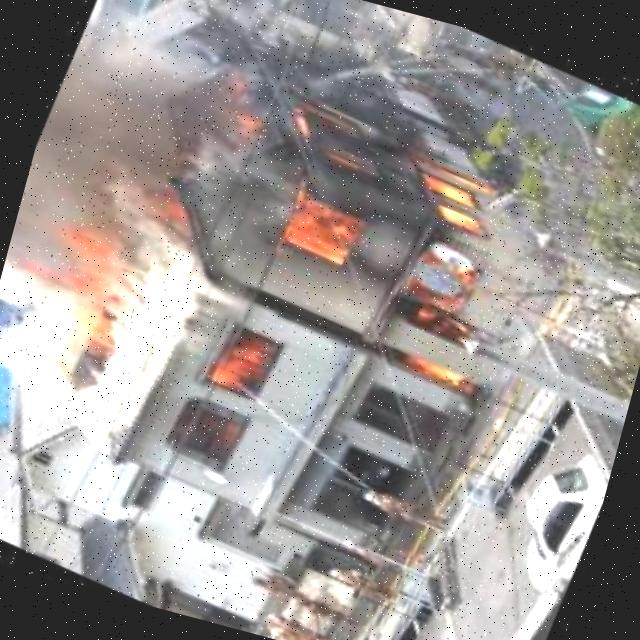fire: (151, 64, 562, 409), (15, 190, 173, 378), (181, 308, 290, 452)
